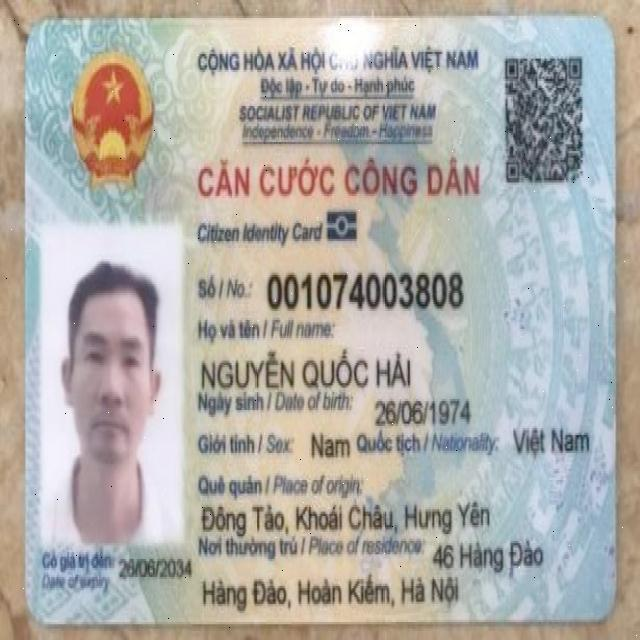current_place: (200, 568, 464, 616), (431, 537, 547, 574)
dob: (373, 399, 472, 426)
expire_date: (117, 551, 193, 583)
gender: (307, 424, 352, 465)
id: (264, 269, 468, 315)
name: (198, 344, 416, 395)
nationality: (510, 421, 594, 466)
origin_place: (200, 497, 496, 536)
